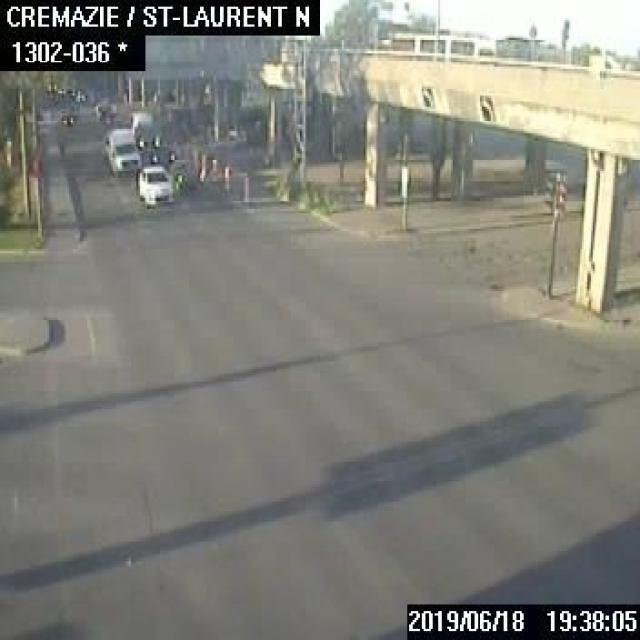construction: (240, 169, 249, 204), (200, 151, 208, 179), (210, 158, 218, 186), (223, 165, 231, 193)
vehicle: (103, 127, 141, 174), (135, 167, 175, 207), (167, 156, 202, 192), (130, 108, 154, 145), (148, 142, 175, 167), (58, 112, 72, 125)
